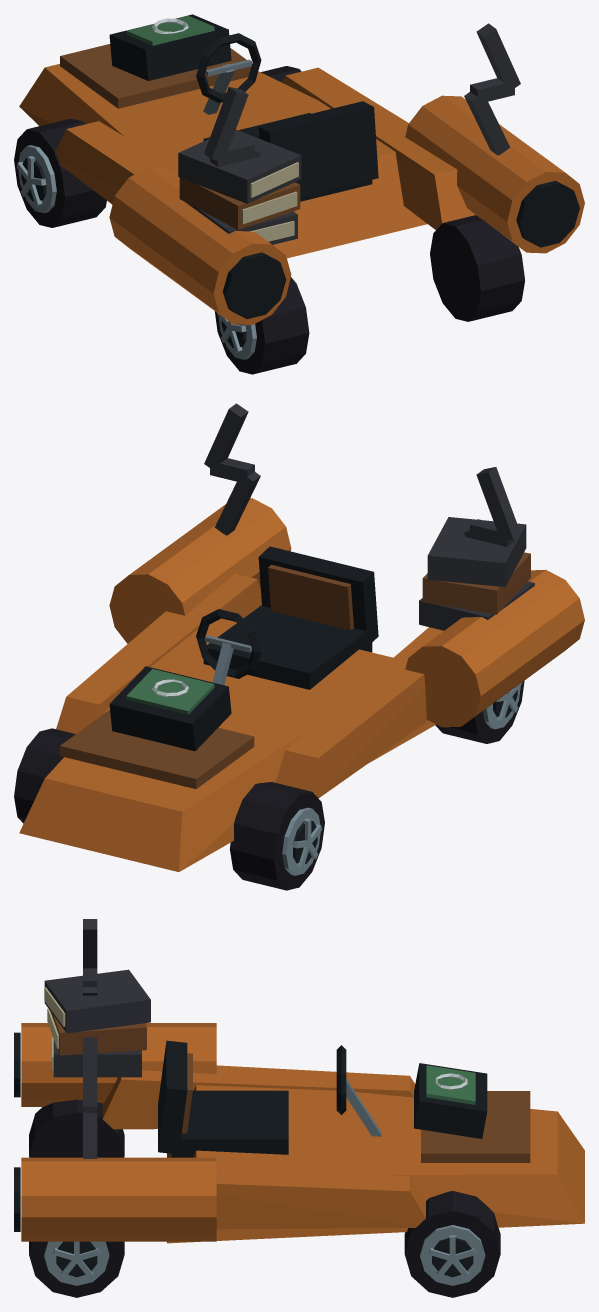
The model's file is kart.glb.
3 views of the same model, one above another, from view 1: azimuth 30°, elevation 25°; view 2: azimuth 150°, elevation 25°; view 3: azimuth 270°, elevation 25° (orthographic). The views are drawn at different scales.
Parts seen in each view (by area): view 1: identity-speeder-speeder-long-cowl-and-stern-turbines, identity-speeder-driver-cockpit, identity-speeder-motif-books, wheel-rear-right, wheel-front-left, identity-speeder-motif-scanner, identity-speeder-motif-electric, wheel-rear-left; view 2: identity-speeder-speeder-long-cowl-and-stern-turbines, identity-speeder-driver-cockpit, identity-speeder-motif-books, wheel-front-left, identity-speeder-motif-scanner, identity-speeder-motif-electric, wheel-front-right, wheel-rear-left; view 3: identity-speeder-speeder-long-cowl-and-stern-turbines, identity-speeder-driver-cockpit, identity-speeder-motif-books, wheel-front-right, identity-speeder-motif-scanner, wheel-rear-right, wheel-rear-left, identity-speeder-motif-electric.
Part boxes in pixels (left/top/right/bottom): identity-speeder-speeder-long-cowl-and-stern-turbines: left=19, top=44, right=584, bottom=324; identity-speeder-driver-cockpit: left=196, top=33, right=378, bottom=201; identity-speeder-motif-books: left=178, top=129, right=301, bottom=244; wheel-rear-right: left=430, top=215, right=524, bottom=321; wheel-front-left: left=14, top=118, right=106, bottom=227; identity-speeder-motif-scanner: left=109, top=14, right=231, bottom=80; identity-speeder-motif-electric: left=204, top=23, right=520, bottom=166; wheel-rear-left: left=214, top=277, right=309, bottom=374; identity-speeder-speeder-long-cowl-and-stern-turbines: left=19, top=498, right=584, bottom=871; identity-speeder-driver-cockpit: left=196, top=546, right=378, bottom=689; identity-speeder-motif-books: left=419, top=517, right=534, bottom=630; wheel-front-left: left=230, top=782, right=324, bottom=890; identity-speeder-motif-scanner: left=109, top=666, right=231, bottom=751; identity-speeder-motif-electric: left=204, top=403, right=520, bottom=546; wheel-front-right: left=14, top=728, right=75, bottom=823; wheel-rear-left: left=435, top=680, right=524, bottom=743; identity-speeder-speeder-long-cowl-and-stern-turbines: left=14, top=1023, right=584, bottom=1243; identity-speeder-driver-cockpit: left=158, top=1040, right=381, bottom=1157; identity-speeder-motif-books: left=44, top=969, right=150, bottom=1077; wheel-front-right: left=404, top=1190, right=500, bottom=1297; identity-speeder-motif-scanner: left=414, top=1063, right=487, bottom=1138; wheel-rear-right: left=29, top=1241, right=124, bottom=1297; wheel-rear-left: left=29, top=1099, right=124, bottom=1157; identity-speeder-motif-electric: left=83, top=919, right=97, bottom=1158.
Size of the model in its own units: 2.1 by 1.49 by 2.98.
